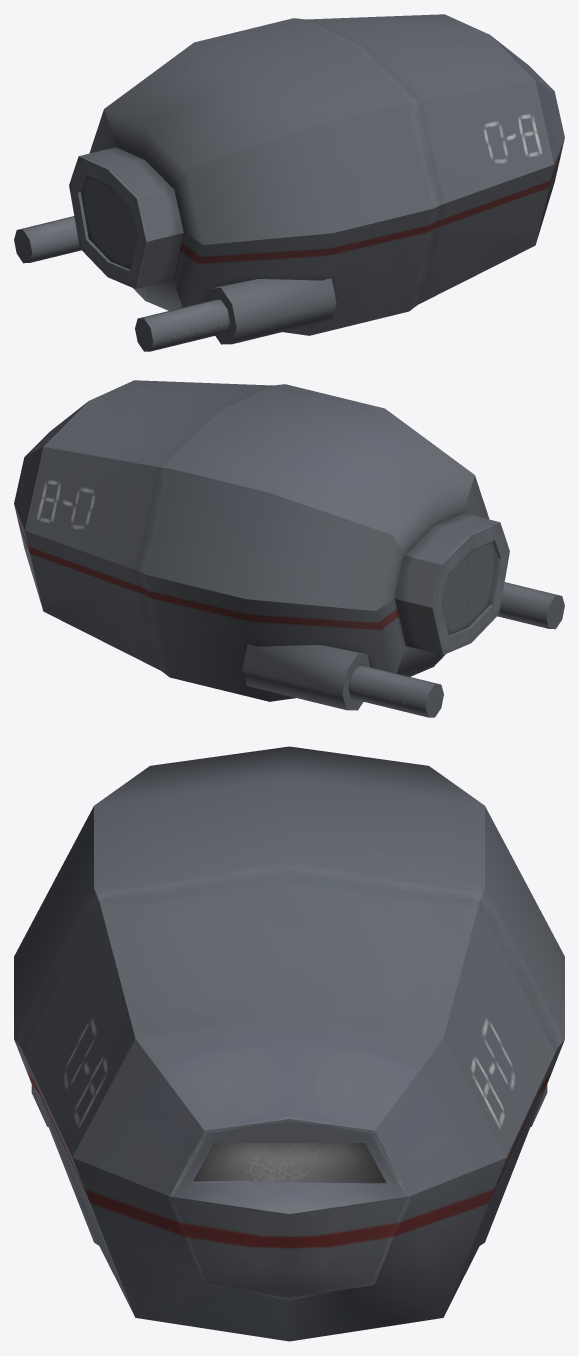
File: escapePod_01.fbx
3 renders of one model, top to bottom at view 1: azimuth 30°, elevation 25°; view 2: azimuth 150°, elevation 25°; view 3: azimuth 270°, elevation 25°, orthographic. The views are drawn at different scales.
Visible parts, largest first — view 1: escapePod; view 2: escapePod; view 3: escapePod, escapePod_window.
Part boxes in pixels (<box>): escapePod: <box>14,14,564,351</box>; escapePod: <box>14,380,564,717</box>; escapePod: <box>14,746,564,1341</box>; escapePod_window: <box>193,1143,385,1181</box>.
Size of the model in its own units: 9.39 by 4.65 by 5.64.
2 materials, 2 textured.
